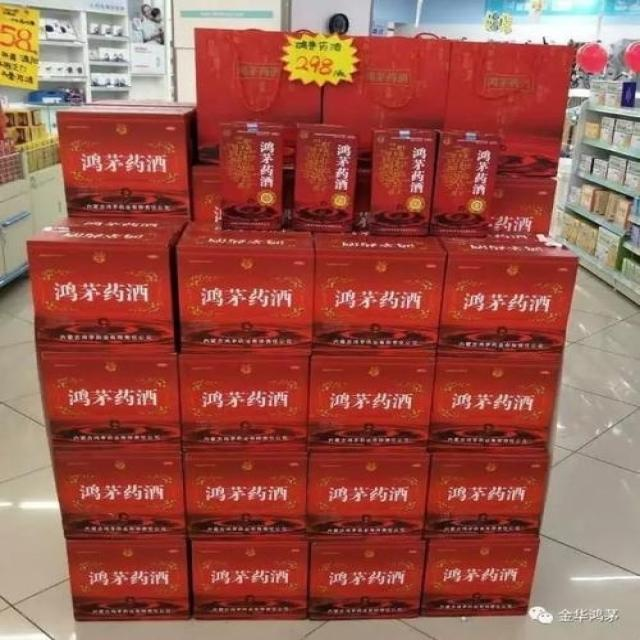box: (26, 216, 186, 352), (436, 230, 579, 363), (312, 222, 448, 360), (175, 220, 314, 355), (320, 35, 451, 177), (442, 40, 575, 178), (196, 29, 320, 169), (56, 98, 198, 220), (37, 350, 182, 454), (179, 352, 312, 454), (307, 355, 438, 457), (429, 360, 562, 456), (51, 451, 188, 540), (422, 456, 553, 544), (308, 454, 433, 543), (184, 452, 308, 540), (67, 540, 193, 623), (307, 540, 430, 620), (192, 540, 308, 620), (421, 543, 539, 618), (430, 129, 499, 234), (370, 125, 436, 234), (292, 124, 358, 232), (220, 119, 284, 230), (486, 174, 556, 232), (594, 226, 634, 271), (131, 44, 166, 74), (580, 183, 612, 215), (561, 214, 591, 245), (575, 222, 600, 257), (603, 82, 636, 108), (46, 18, 77, 41), (40, 62, 86, 76), (612, 199, 632, 231), (588, 81, 605, 107), (99, 47, 125, 62), (111, 73, 132, 86), (92, 73, 111, 87)
